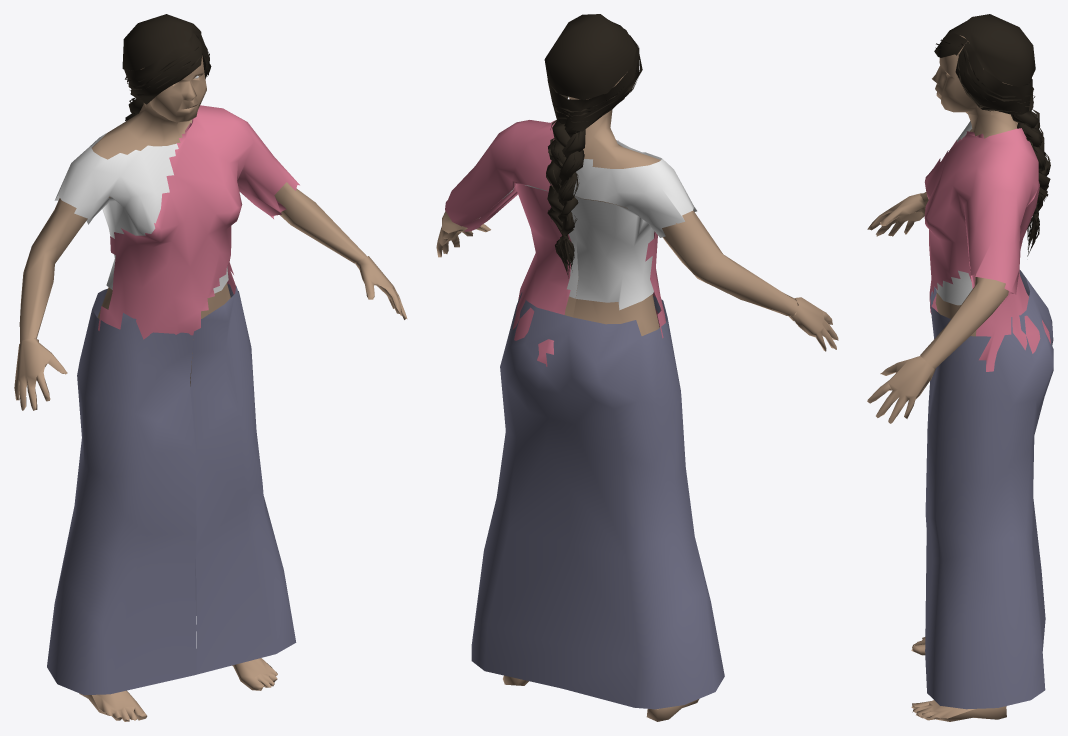
File: woman_01.glb
The picture shows the model from 3 angles, left to right: view 1: azimuth 30°, elevation 25°; view 2: azimuth 150°, elevation 25°; view 3: azimuth 270°, elevation 25°; orthographic projection. The views are drawn at different scales.
Parts seen in each view (by area): view 1: crowd; view 2: crowd; view 3: crowd.
Part boxes in pixels (x1,y1,x2,y2): crowd: [14, 14, 407, 721]; crowd: [436, 14, 838, 721]; crowd: [867, 14, 1053, 721].
Size of the model in its own units: 0.9612 by 1.59 by 0.4033.
